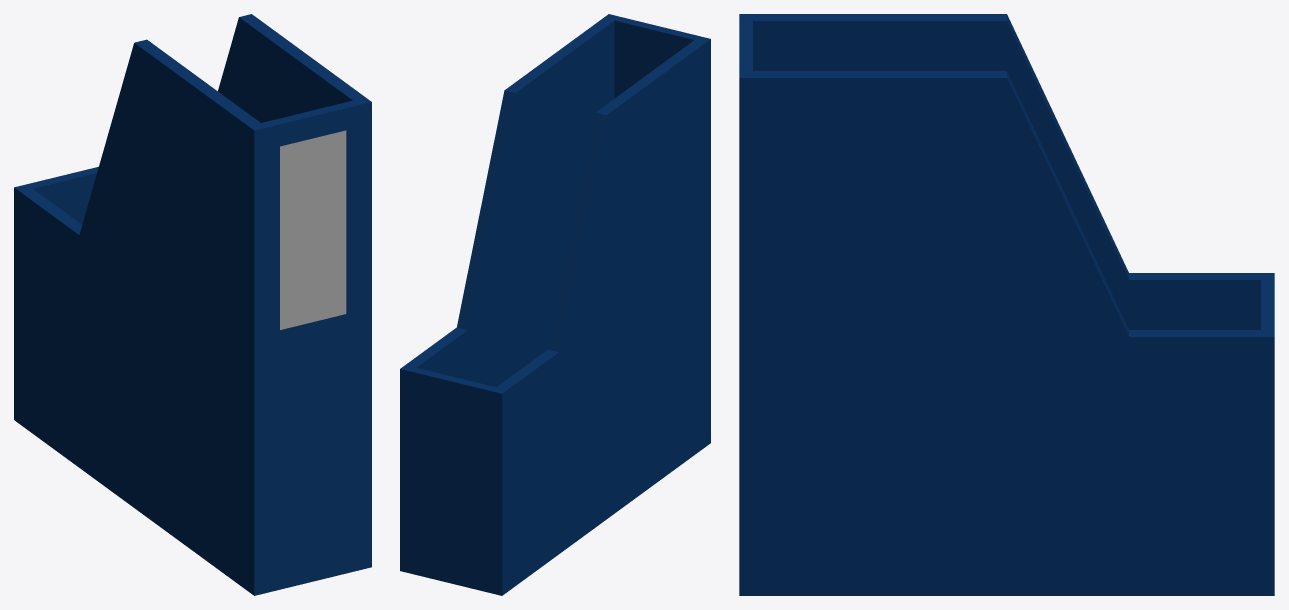
The model's file is FileHolderV2Blue.fbx.
3 renders of one model, left to right at view 1: azimuth 30°, elevation 25°; view 2: azimuth 150°, elevation 25°; view 3: azimuth 270°, elevation 25°, orthographic. The views are drawn at different scales.
Visible parts, largest first — view 1: FileHolderV2Blue; view 2: FileHolderV2Blue; view 3: FileHolderV2Blue.
Part boxes in pixels (x1,y1,x2,y2): FileHolderV2Blue: [14, 14, 371, 595]; FileHolderV2Blue: [400, 14, 710, 595]; FileHolderV2Blue: [739, 14, 1274, 595].
Bounding box in the file's own units: 7.39 × 27.94 × 26.15.
